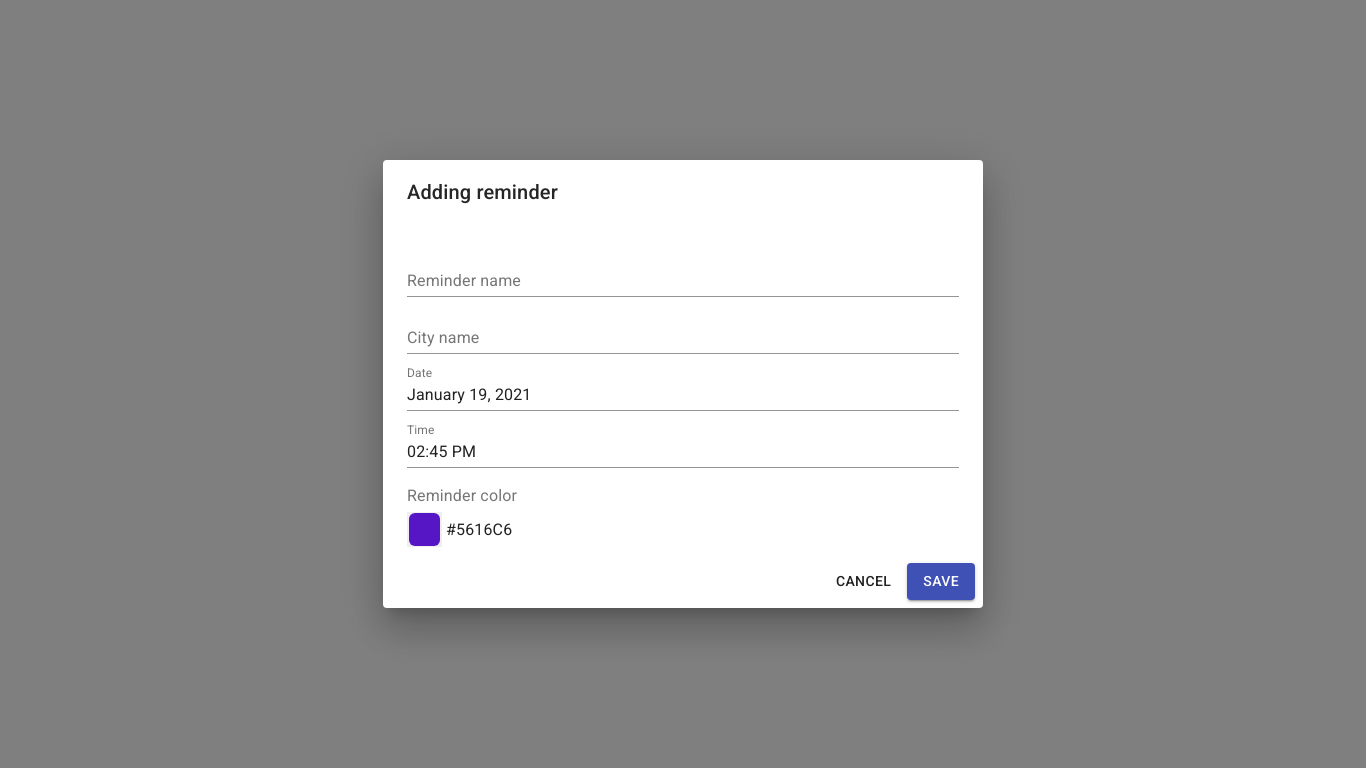
should validate title with max 30 characters
Check: the heading "Adding reminder" is shown, box [407,180,558,204]
Type "Lorem ipsum dolor sit amet, consectetur adipiscing elit. Integer felis urna, sagittis at dui at, accumsan pharetra eros. Nullam vulputate in turpis eu tristique." into the field labelled "Reminder name" at (683, 283), box [407,268,959,297]
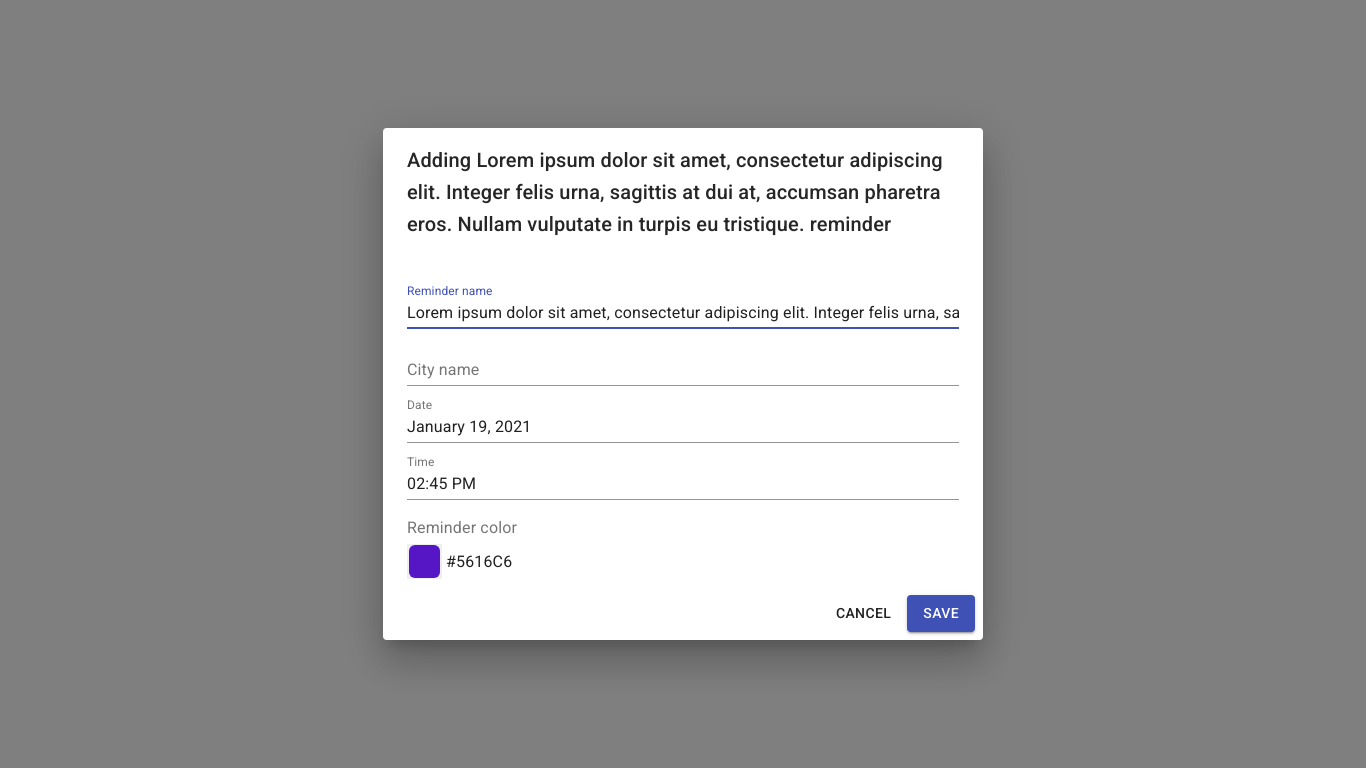
Click the button "Save" at (941, 614), box [907,595,975,632]
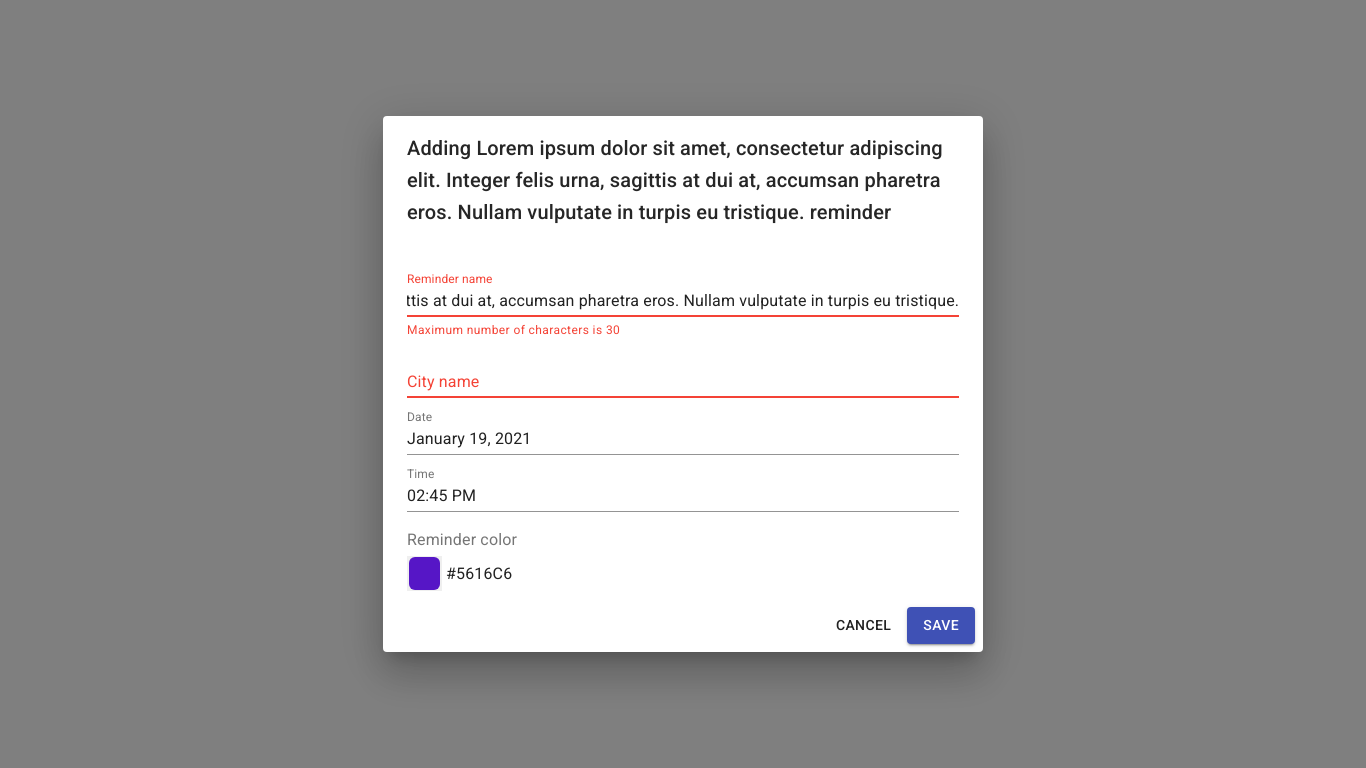
Check: the text "Maximum number of characters is 30" is shown, box [407,323,620,337]
